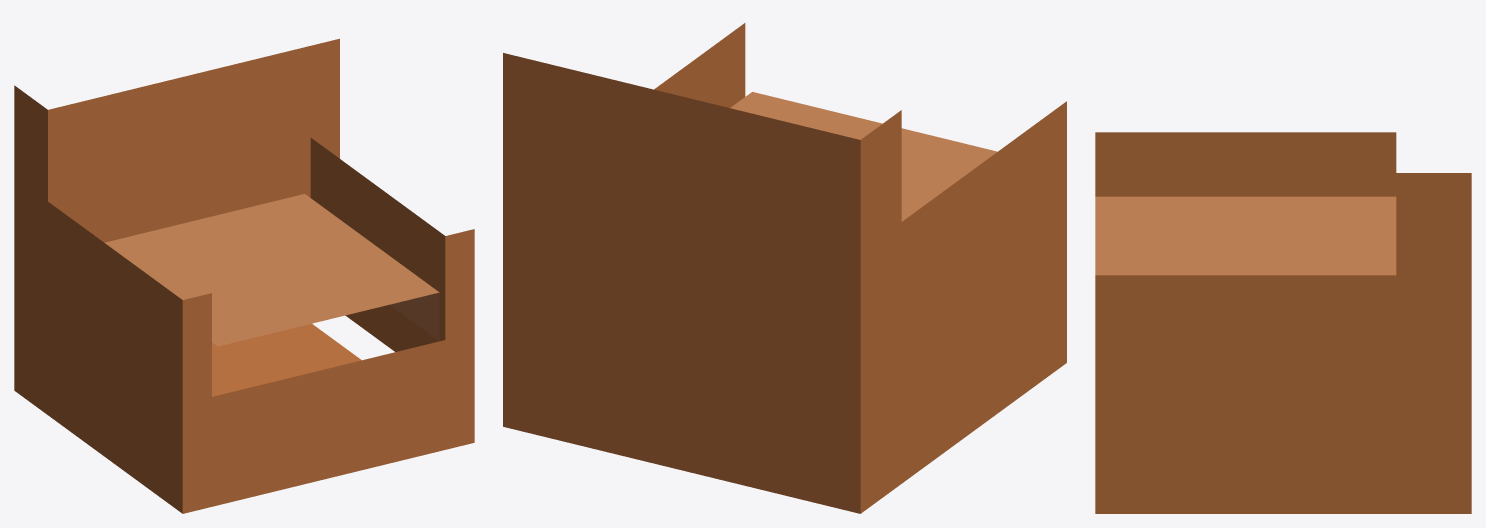
File: Sofa-orange.glb
The picture shows the model from 3 angles, left to right: view 1: azimuth 30°, elevation 25°; view 2: azimuth 150°, elevation 25°; view 3: azimuth 270°, elevation 25°; orthographic projection. The views are drawn at different scales.
Parts seen in each view (by area): view 1: Sofa; view 2: Sofa; view 3: Sofa.
Boxes of the visible parts, x1,y1,x2,y2 form: Sofa: [14, 38, 474, 513]; Sofa: [503, 23, 1066, 513]; Sofa: [1095, 132, 1471, 513].
Size of the model in its own units: 1 by 1 by 1.
